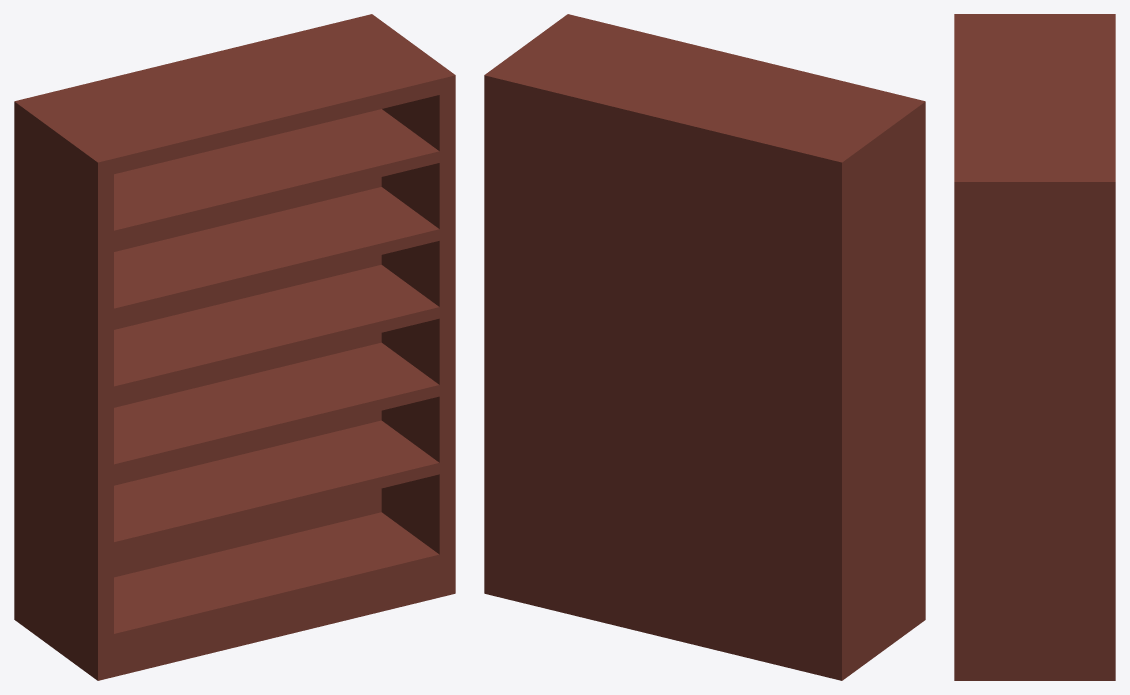
Rendered from standart_bookshelf.glb.
3 views of the same model, side by side, from view 1: azimuth 30°, elevation 25°; view 2: azimuth 150°, elevation 25°; view 3: azimuth 270°, elevation 25° (orthographic). The views are drawn at different scales.
Parts seen in each view (by area): view 1: Standart_Bookshelf; view 2: Standart_Bookshelf; view 3: Standart_Bookshelf.
Boxes of the visible parts, x1,y1,x2,y2 form: Standart_Bookshelf: (14, 14, 455, 680); Standart_Bookshelf: (484, 14, 925, 680); Standart_Bookshelf: (954, 14, 1115, 680).
Size of the model in its own units: 1.9 by 2.63 by 0.7701.
Materials: 1 (1 with a texture image).
